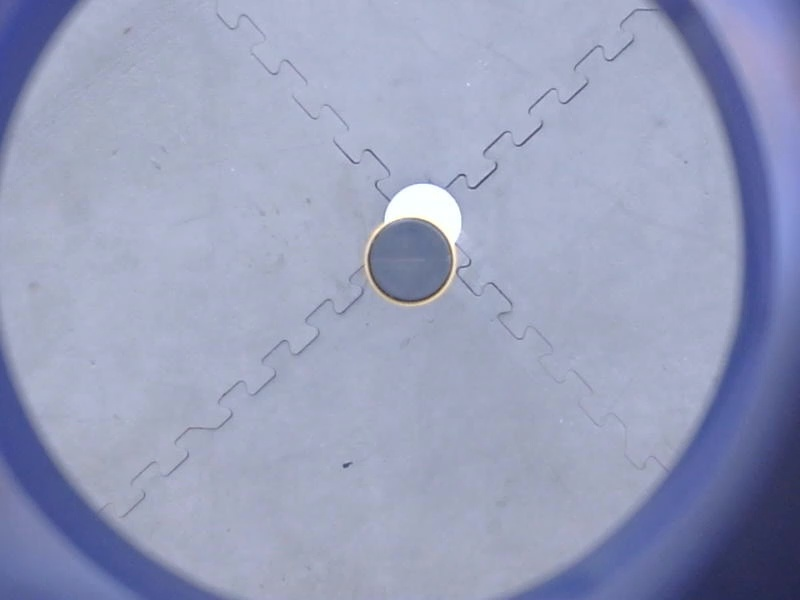tip: (358, 213, 461, 311)
